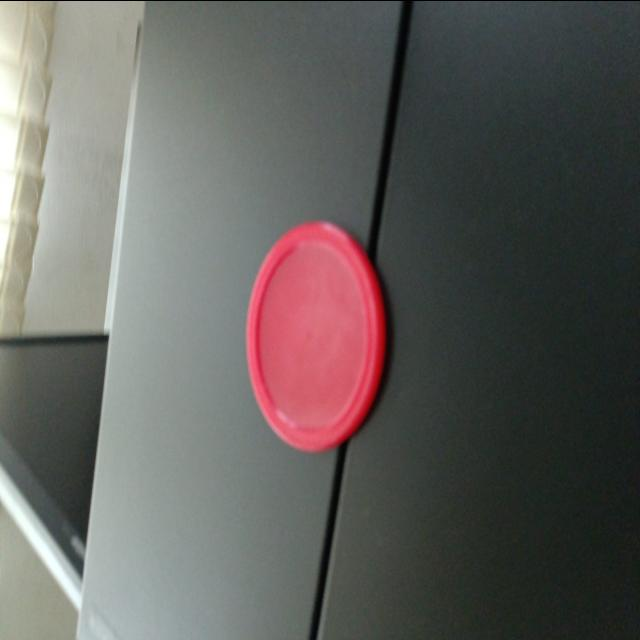chip: (244, 218, 388, 454)
